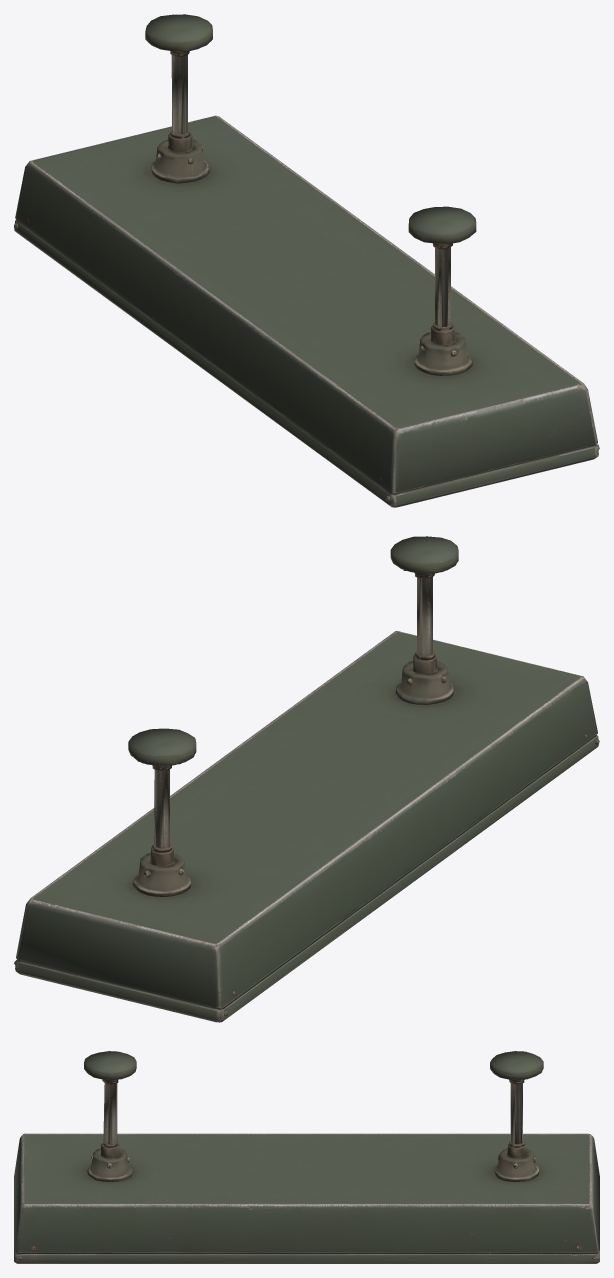
The picture shows the model from 3 angles, top to bottom: view 1: azimuth 30°, elevation 25°; view 2: azimuth 150°, elevation 25°; view 3: azimuth 270°, elevation 25°; orthographic projection. The views are drawn at different scales.
Visible parts, largest first — view 1: tripo_node_8d598d51-e2ef-4ab3-9929-63825bbdfae5; view 2: tripo_node_8d598d51-e2ef-4ab3-9929-63825bbdfae5; view 3: tripo_node_8d598d51-e2ef-4ab3-9929-63825bbdfae5.
Boxes of the visible parts, x1,y1,x2,y2 form: tripo_node_8d598d51-e2ef-4ab3-9929-63825bbdfae5: (14,14,599,507); tripo_node_8d598d51-e2ef-4ab3-9929-63825bbdfae5: (14,536,599,1022); tripo_node_8d598d51-e2ef-4ab3-9929-63825bbdfae5: (14,1051,599,1263).
Size of the model in its own units: 0.3223 by 0.3223 by 0.998.
Materials: 1 (1 with a texture image).
